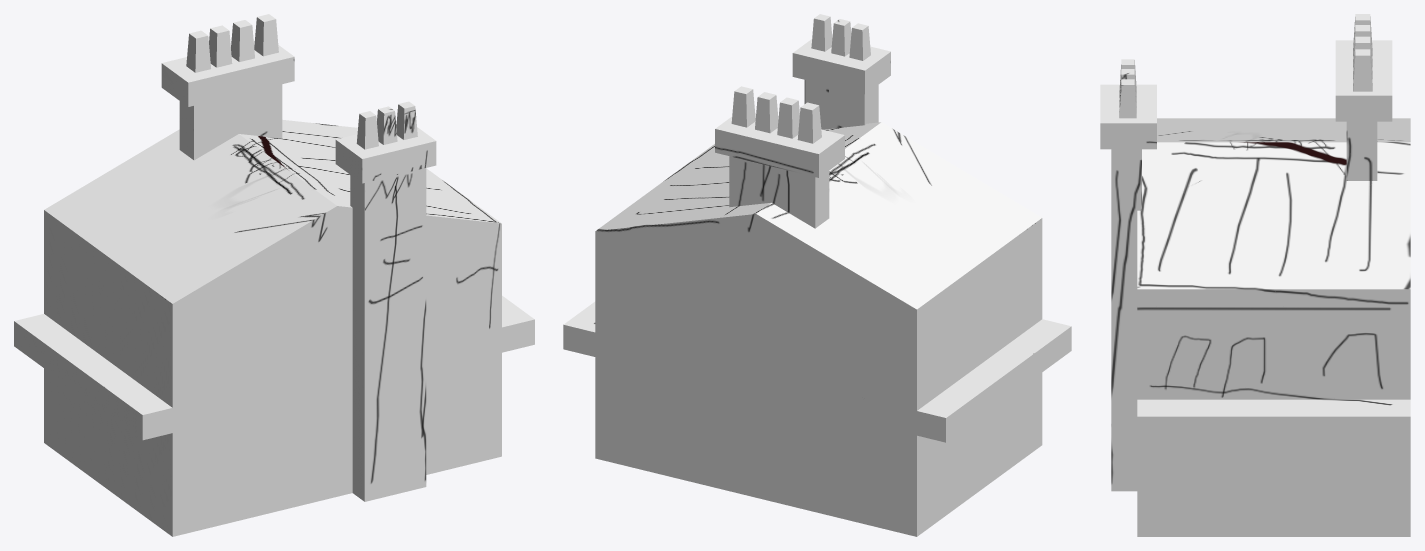
The model's file is Archi01.fbx.
The picture shows the model from 3 angles, left to right: view 1: azimuth 30°, elevation 25°; view 2: azimuth 150°, elevation 25°; view 3: azimuth 270°, elevation 25°; orthographic projection. The views are drawn at different scales.
Visible parts, largest first — view 1: Cube.019; view 2: Cube.019; view 3: Cube.019.
Part boxes in pixels (left/top/right/bottom): Cube.019: left=14, top=14, right=534, bottom=536; Cube.019: left=563, top=14, right=1071, bottom=536; Cube.019: left=1100, top=14, right=1410, bottom=536.
Bounding box in the file's own units: 352 × 337 × 227.
